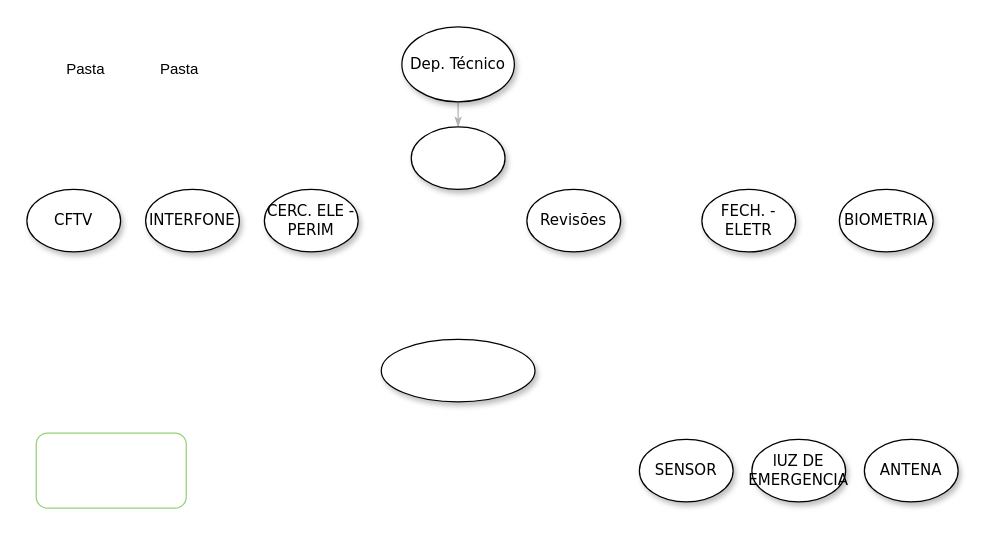
Image size: 988x533. Some labels were removed from this diagram. Here are the shapes that lost their labels. From the top down, the centre of each, then its label:
At (458,159): "CTRO".
At (458,372): "Supervisão".
